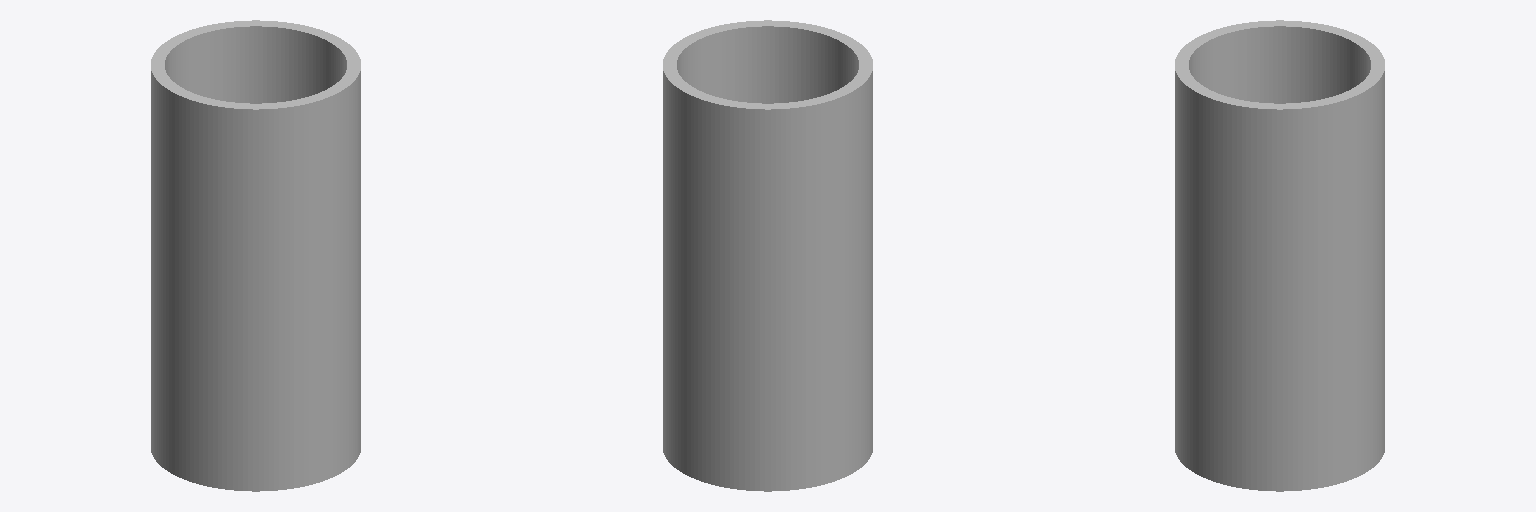
The robot description file, URDF, robot "Two_Arm_Robot":
<?xml version="1.0"?>
<robot name="Two_Arm_Robot">
  <link name="Bottom_Chassis">
    <visual>
      <geometry>
        <mesh filename="meshes/Assembly-Main_Body_001.dae" scale="0.001 0.001 0.001"/>
      </geometry>
      <origin xyz="0 0 0" rpy="0 0 1.5708"/> 
    </visual>
    <collision>
      <geometry>
        <mesh filename="meshes/Assembly-Main_Body_001.dae" scale="0.001 0.001 0.001"/>
      </geometry>
      <origin xyz="0 0 0" rpy="0 0 1.5708"/> 
    </collision>
    <inertial>
      <origin xyz="0 0 0.075" rpy="0 0 1.5708"/>
      <mass value="0.498"/>
      <inertia ixx="1.588" ixy="0" ixz="0" iyy="1.388" iyz="0" izz="2.178"/>
    </inertial>
  </link>
</robot>

--- Facts derived from the render (not from the file) ---
The picture shows the robot from 3 angles, left to right: view 1: azimuth 30°, elevation 25°; view 2: azimuth 150°, elevation 25°; view 3: azimuth 270°, elevation 25°; orthographic projection.
Model Two_Arm_Robot with 1 links and 0 joints (none), rooted at Bottom_Chassis, posed all joints at 0.
Links seen in each view (by area): view 1: Bottom_Chassis; view 2: Bottom_Chassis; view 3: Bottom_Chassis.
Link boxes in pixels (x1,y1,x2,y2): Bottom_Chassis: (151, 20, 360, 491); Bottom_Chassis: (663, 20, 872, 491); Bottom_Chassis: (1175, 20, 1384, 491).
Size in the robot's own frame: 0.0001 by 0.0002 by 0.0003 metres.
Meshes: 1 distinct files referenced, 1 mesh visuals loaded (1 Collada DAE).